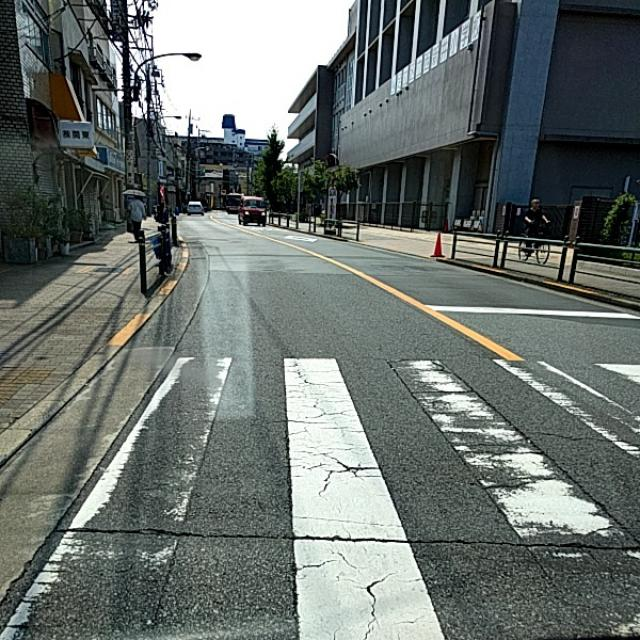pothole: (288, 465, 420, 602)
